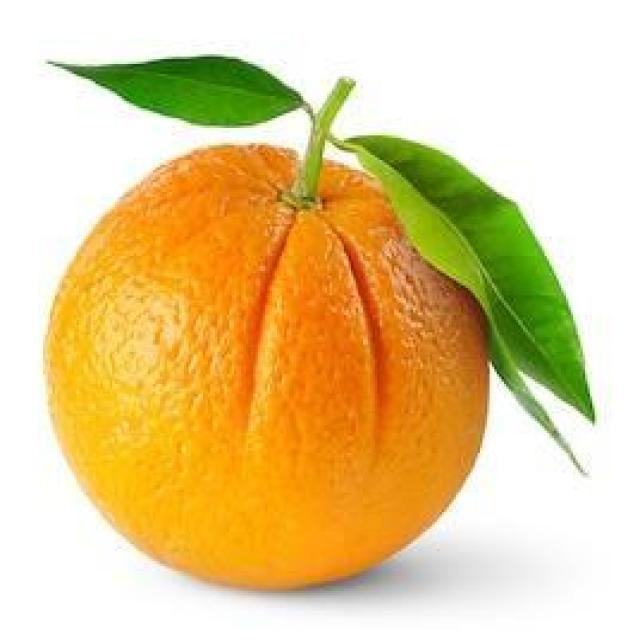orange: (42, 130, 496, 590)
